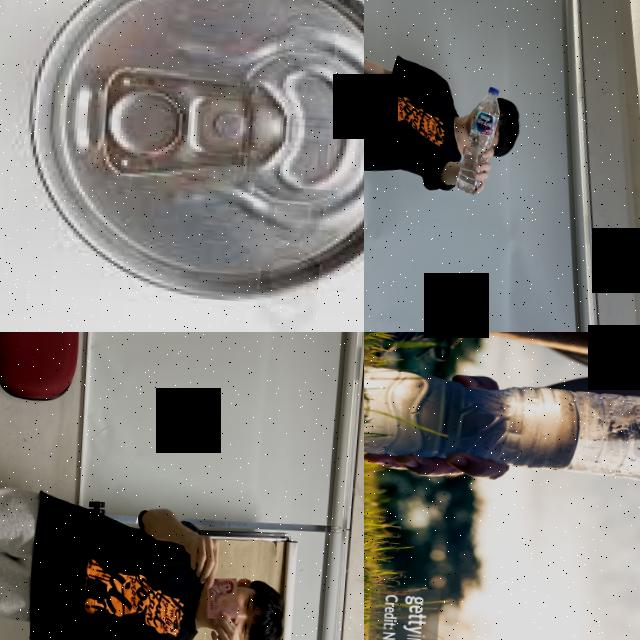bottle: (364, 366, 640, 486), (453, 84, 501, 198)
